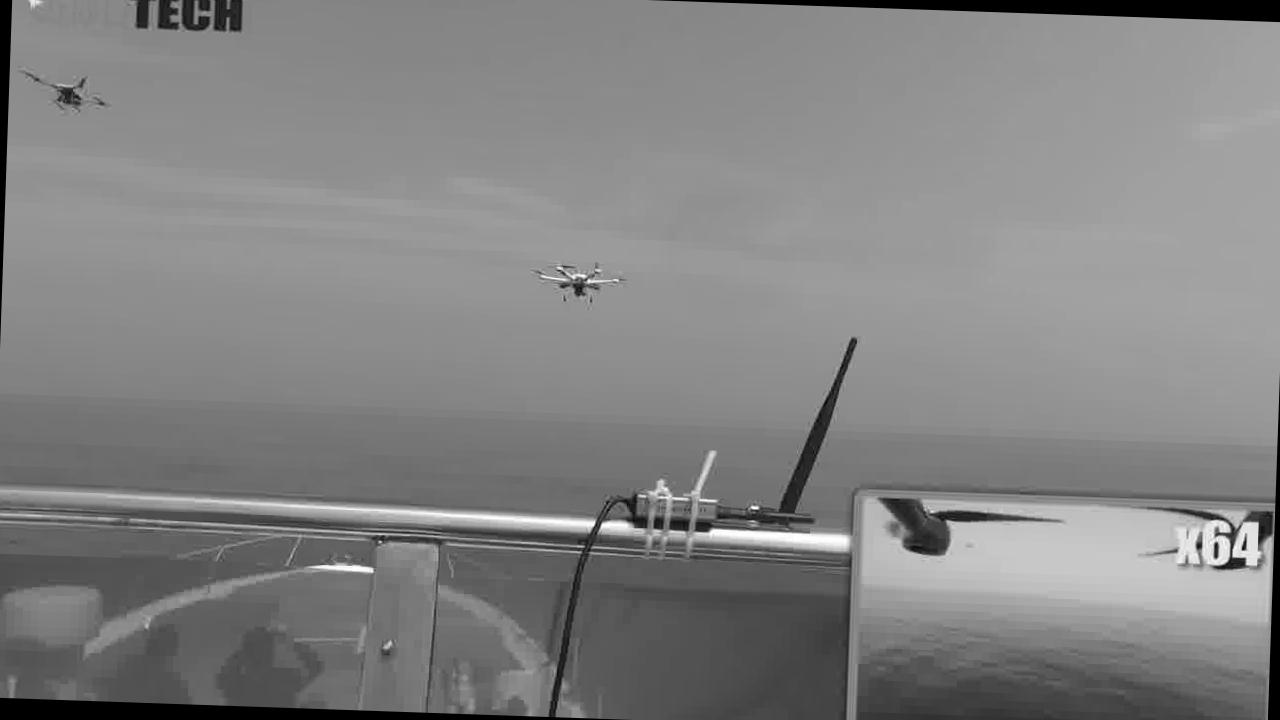drone: (504, 238, 640, 312)
